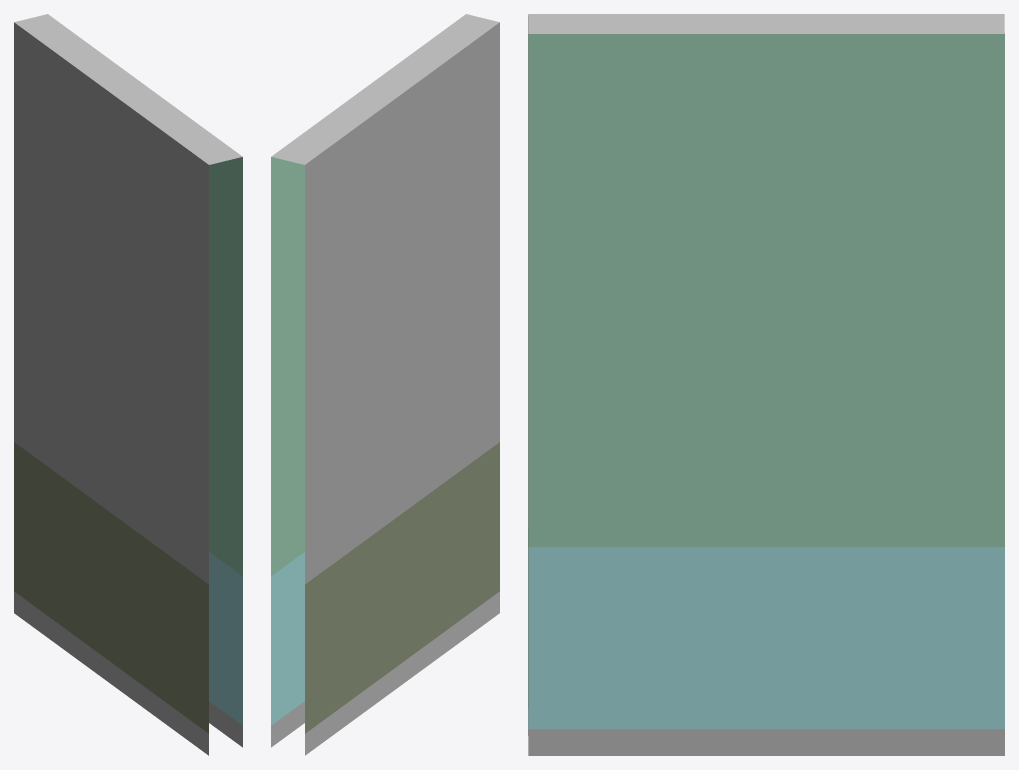
File: SM_Wall_200.fbx
The picture shows the model from 3 angles, left to right: view 1: azimuth 30°, elevation 25°; view 2: azimuth 150°, elevation 25°; view 3: azimuth 270°, elevation 25°; orthographic projection. The views are drawn at different scales.
Parts seen in each view (by area): view 1: SM_Wall_200; view 2: SM_Wall_200; view 3: SM_Wall_200.
Part boxes in pixels (x1=…): SM_Wall_200: x1=14, y1=14, x2=242, y2=755; SM_Wall_200: x1=271, y1=14, x2=499, y2=755; SM_Wall_200: x1=528, y1=14, x2=1004, y2=755.
Size of the model in its own units: 20 by 334 by 200.
